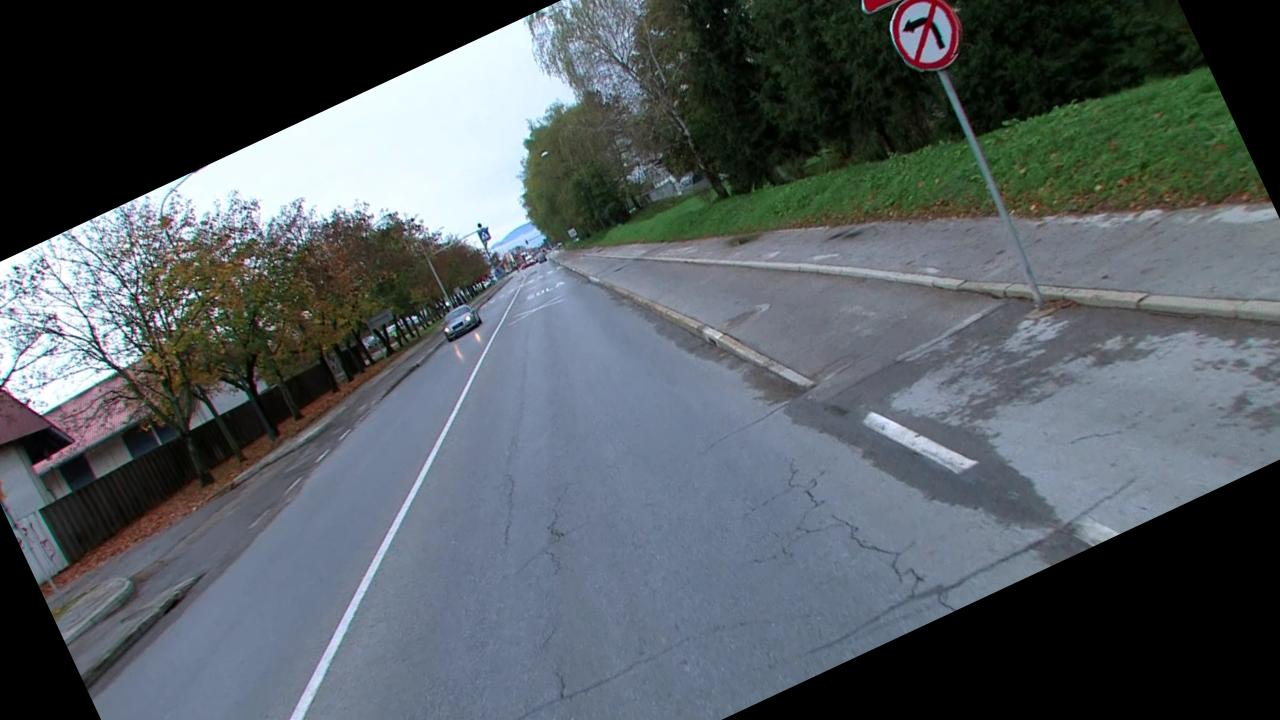Round: (882, 0, 973, 77)
Squared: (476, 224, 494, 242)
